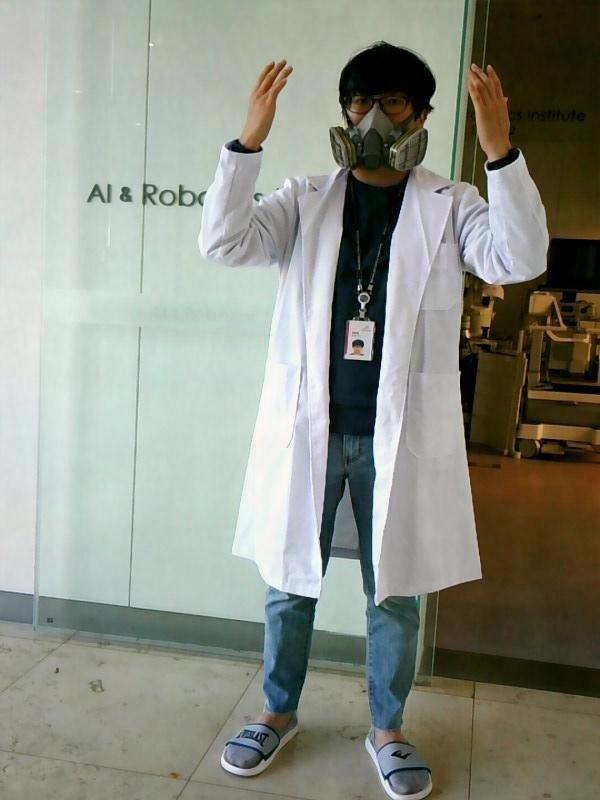Lab_coat: (196, 136, 551, 610)
